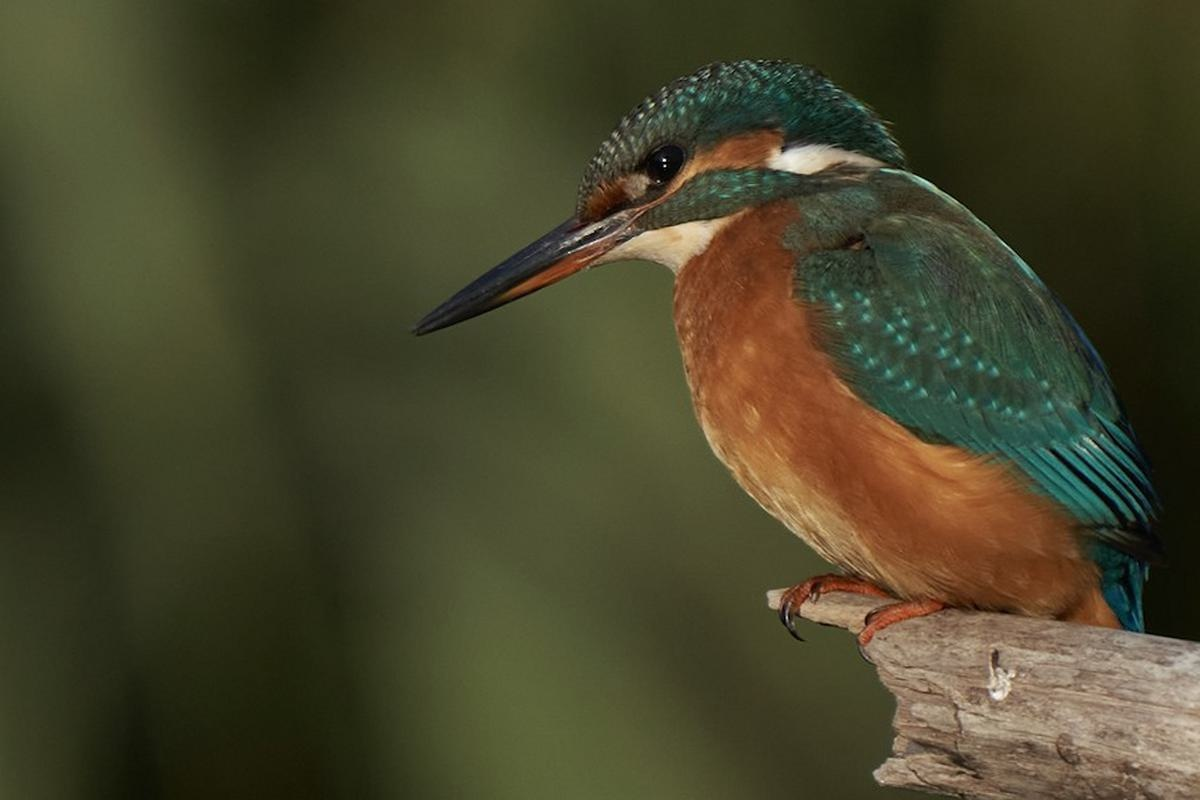kingfisher: (408, 53, 1166, 648)
